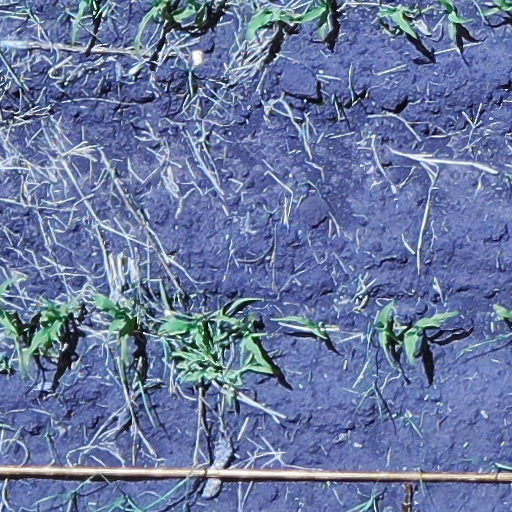planta: (23, 297, 79, 367), (211, 314, 276, 374), (93, 293, 136, 370), (403, 309, 461, 363), (158, 317, 229, 361), (245, 7, 295, 39), (273, 313, 329, 339), (375, 7, 420, 39), (377, 296, 395, 353)
